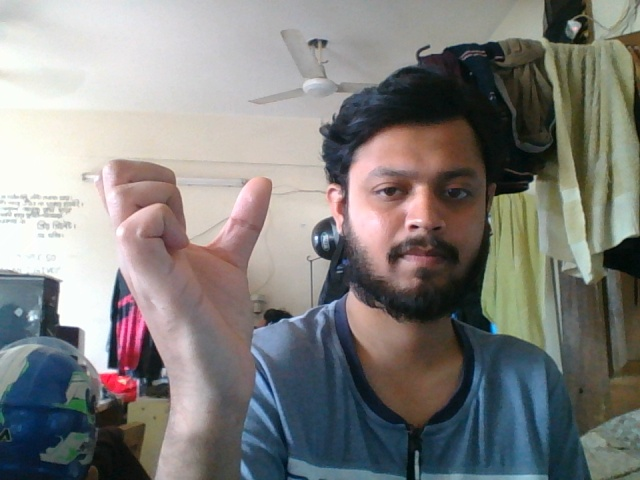kha: (84, 149, 289, 405)
